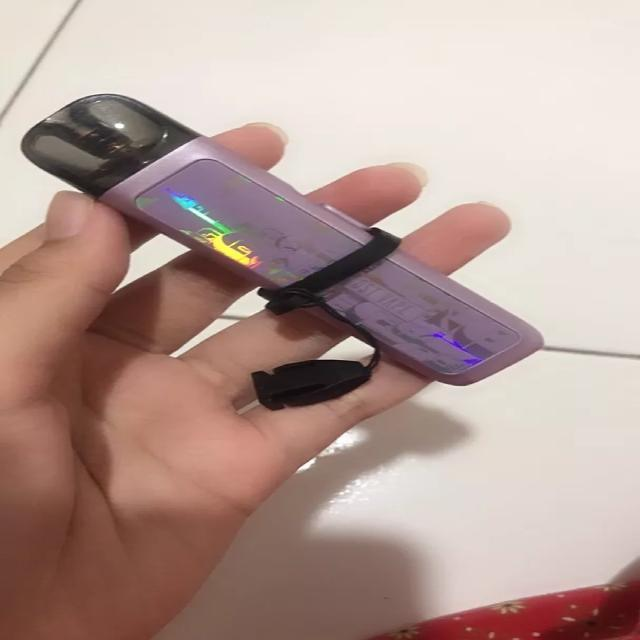Hazard: (19, 90, 548, 388)
